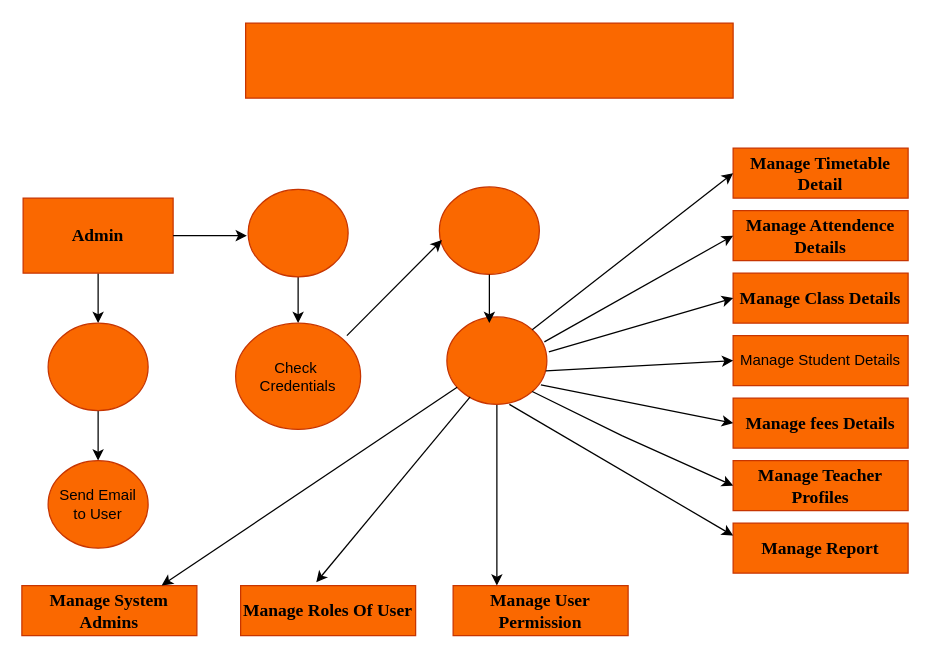
Some shapes in this 930 by 671 pixel diagram are drawn without their labels. The box of each missing label's shape, as (x1, y1, x2, y2) in pixels:
Check Roles of Access: (438, 186, 539, 274)
Forget Password: (47, 322, 148, 411)
Login to system: (247, 188, 348, 277)
Manage Modules: (446, 316, 547, 404)
Student Information System: (244, 22, 733, 98)
